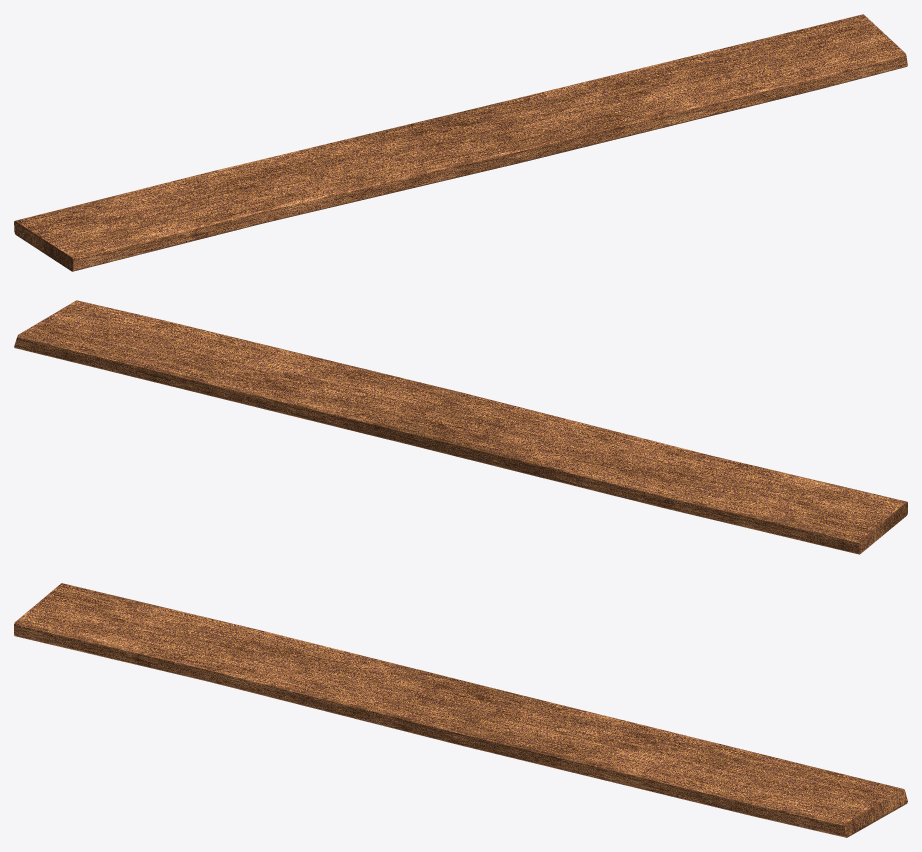
File: WoodPlank.fbx
3 views of the same model, one above another, from view 1: azimuth 30°, elevation 25°; view 2: azimuth 150°, elevation 25°; view 3: azimuth 330°, elevation 25° (orthographic).
Visible parts, largest first — view 1: WoodPlank; view 2: WoodPlank; view 3: WoodPlank.
Part boxes in pixels (x1,y1,x2,y2): WoodPlank: [14, 14, 907, 271]; WoodPlank: [14, 300, 907, 554]; WoodPlank: [14, 583, 907, 837].
Bounding box in the file's own units: 165 × 2.6 × 18.78.
1 material, 1 textured.
